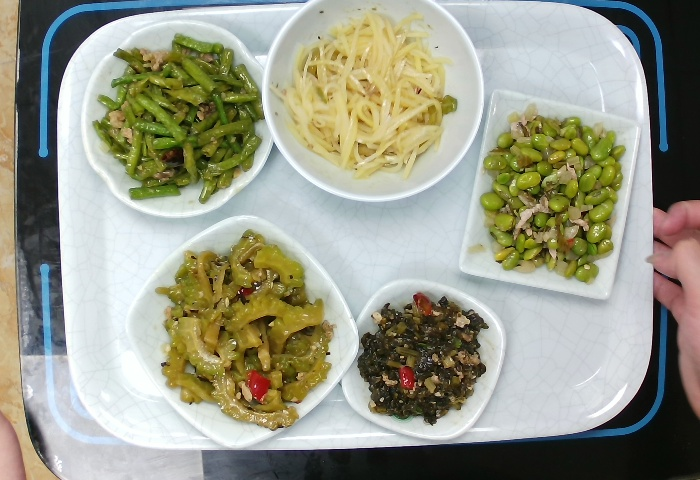JYsf-Ao_Yuan_Wan: (75, 13, 280, 223)
JYsf-Fan_Wan: (257, 1, 489, 207)
JYsf-Si_Fang_Die: (336, 273, 511, 444)
WCQzf-Da_Si_Fang_Die: (122, 211, 362, 454)
WCQzf-Ru_Ci_Si_Fang_Die: (453, 83, 646, 305)
